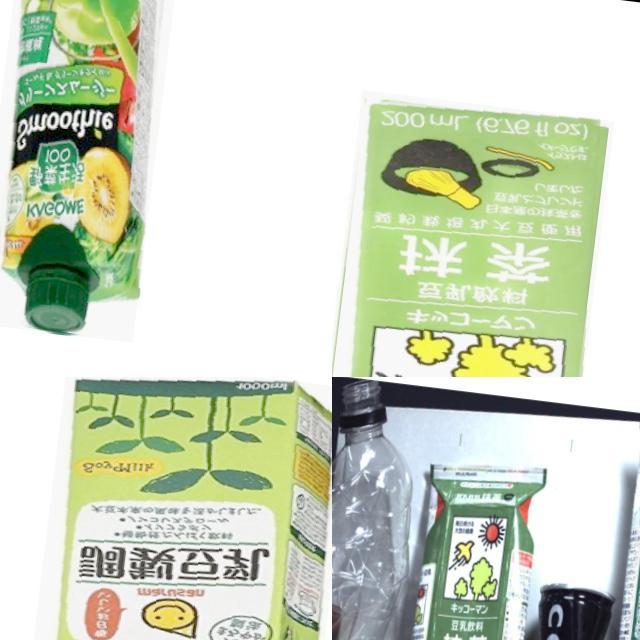Aluminium Foil: (332, 89, 613, 377), (26, 377, 332, 640), (0, 0, 181, 341), (389, 451, 544, 640)
Can: (509, 574, 616, 640)
Transparent Plastic Bottle: (332, 379, 438, 640)
